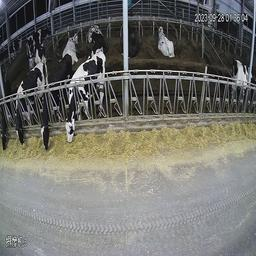cow: (65, 52, 106, 146), (39, 54, 65, 150), (15, 65, 40, 147), (157, 23, 177, 57), (25, 23, 50, 46), (88, 27, 107, 56), (63, 30, 78, 66), (26, 46, 47, 65)
